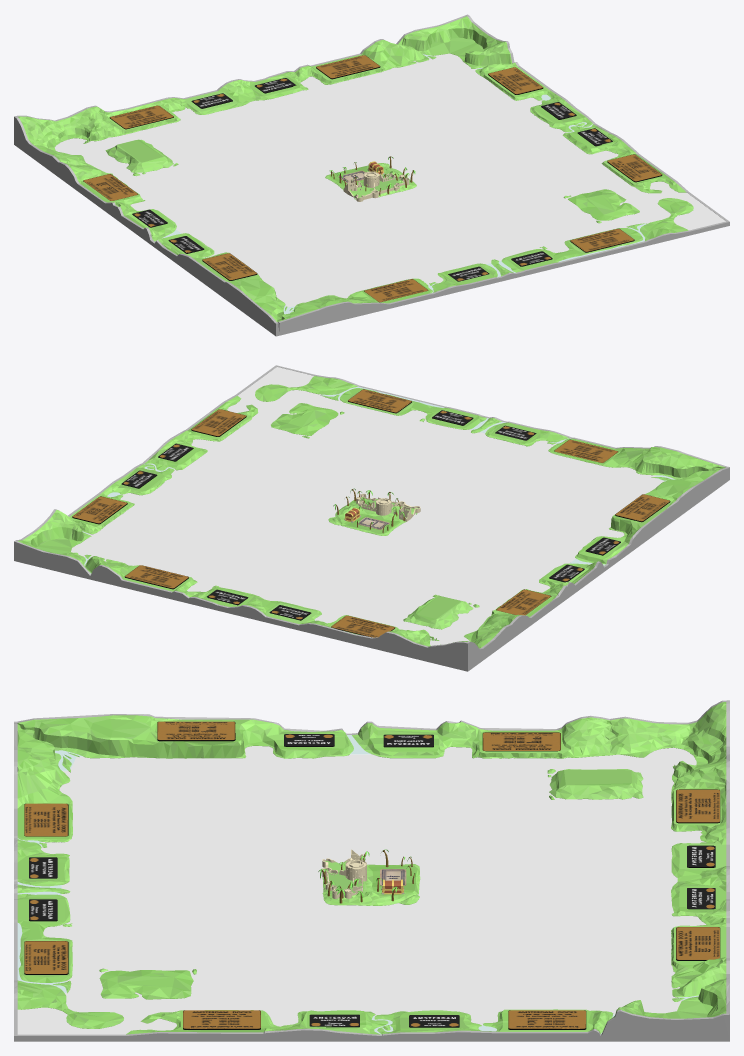
The model's file is AllIslands.gltf.
3 renders of one model, top to bottom at view 1: azimuth 30°, elevation 25°; view 2: azimuth 150°, elevation 25°; view 3: azimuth 270°, elevation 25°, orthographic. The views are drawn at different scales.
Parts seen in each view (by area): view 1: Sea, Grass, Frame, Castle, Dock5, Dock1, Dock4, Dock0, Dock2, Dock7, Dock6, Dock3 (+2 smaller); view 2: Sea, Grass, Frame, Dock0, Dock1, Dock5, Dock6, Dock7, Dock2, Castle, Dock3, Dock4 (+2 smaller); view 3: Sea, Grass, Frame, Dock2, Dock3, Dock4, Dock1, Dock6, Dock0, Dock7, Dock5, Rivers (+10 smaller).
Part boxes in pixels (left/top/right/bottom): Sea: left=54, top=53, right=725, bottom=307; Grass: left=18, top=16, right=693, bottom=322; Frame: left=14, top=14, right=729, bottom=336; Castle: left=343, top=171, right=409, bottom=201; Dock5: left=316, top=55, right=380, bottom=78; Dock1: left=364, top=279, right=428, bottom=302; Dock4: left=110, top=105, right=173, bottom=128; Dock0: left=570, top=228, right=634, bottom=251; Dock2: left=202, top=253, right=257, bottom=280; Dock7: left=607, top=154, right=662, bottom=181; Dock6: left=488, top=67, right=542, bottom=94; Dock3: left=83, top=174, right=138, bottom=200; Sea: left=71, top=367, right=664, bottom=645; Grass: left=18, top=376, right=725, bottom=648; Frame: left=14, top=365, right=729, bottom=671; Dock0: left=348, top=389, right=411, bottom=412; Dock1: left=554, top=439, right=618, bottom=462; Dock5: left=125, top=565, right=188, bottom=588; Dock6: left=72, top=496, right=127, bottom=523; Dock7: left=191, top=409, right=246, bottom=436; Dock2: left=615, top=494, right=669, bottom=521; Castle: left=356, top=493, right=420, bottom=521; Dock3: left=496, top=589, right=551, bottom=615; Dock4: left=331, top=615, right=395, bottom=637; Sea: left=17, top=746, right=706, bottom=1034; Grass: left=17, top=702, right=726, bottom=1034; Frame: left=14, top=700, right=729, bottom=1041; Dock2: left=157, top=721, right=235, bottom=740; Dock3: left=482, top=732, right=560, bottom=751; Dock4: left=676, top=789, right=720, bottom=822; Dock1: left=24, top=803, right=68, bottom=836; Dock6: left=508, top=1010, right=586, bottom=1028; Dock0: left=24, top=941, right=68, bottom=973; Dock7: left=183, top=1010, right=260, bottom=1028; Dock5: left=676, top=927, right=720, bottom=959; Rivers: left=17, top=735, right=698, bottom=1034.
Bounding box in the file's own units: 28.75 × 1.71 × 28.75.
21 materials, 4 textured.
